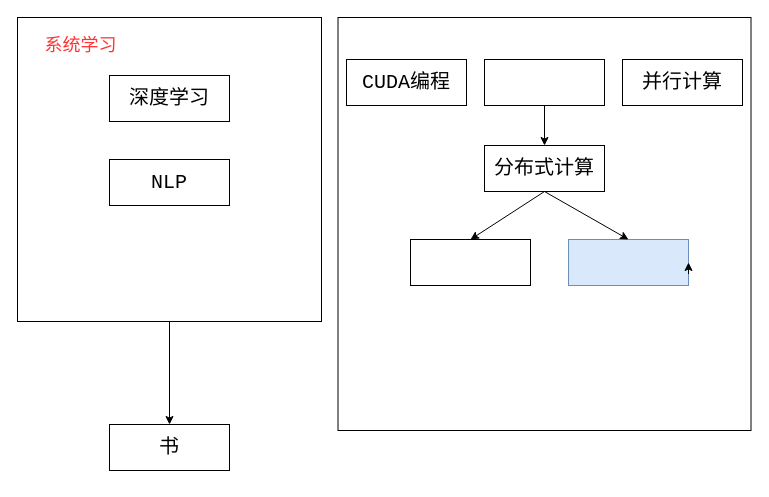
Image size: 769x497. Some labels were removed from this diagram. Here are the shapes that lost their labels. From the top down, the box of each, then its label:
(484, 58, 604, 106): 分布式系统
(410, 238, 530, 286): 同构计算
(568, 238, 688, 286): 异构计算
